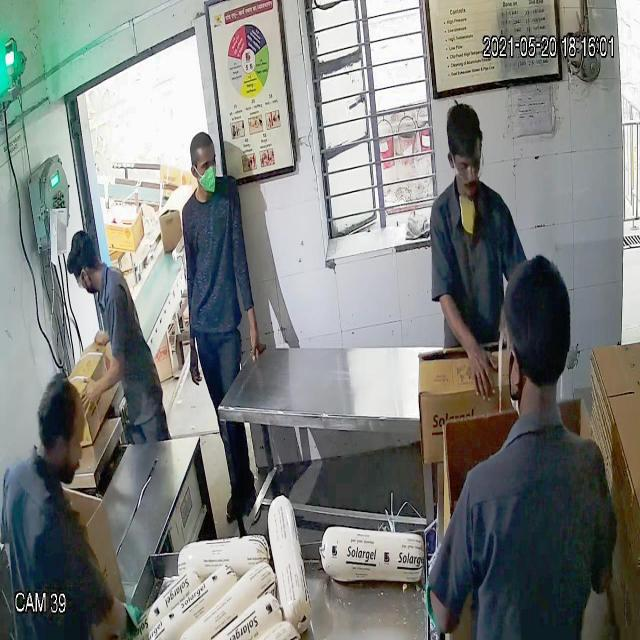glasses: (446, 147, 488, 185)
